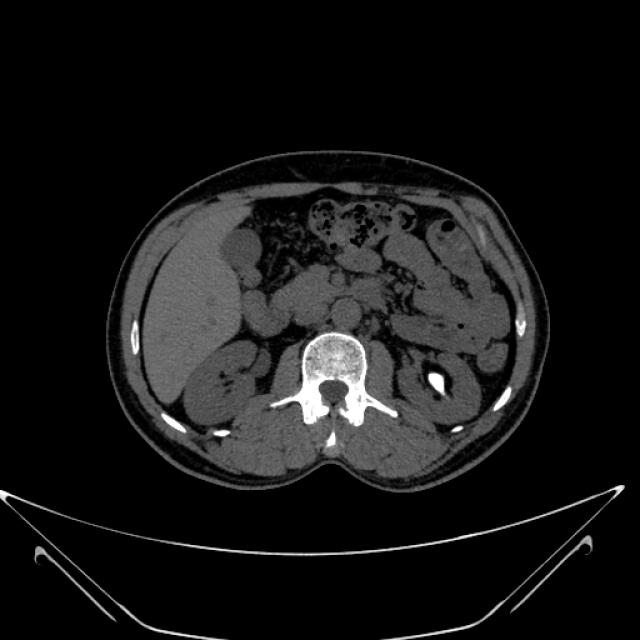kidneystone: (425, 361, 452, 398)
